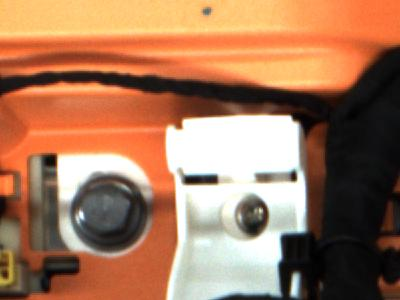nut_b: (68, 165, 147, 253)
